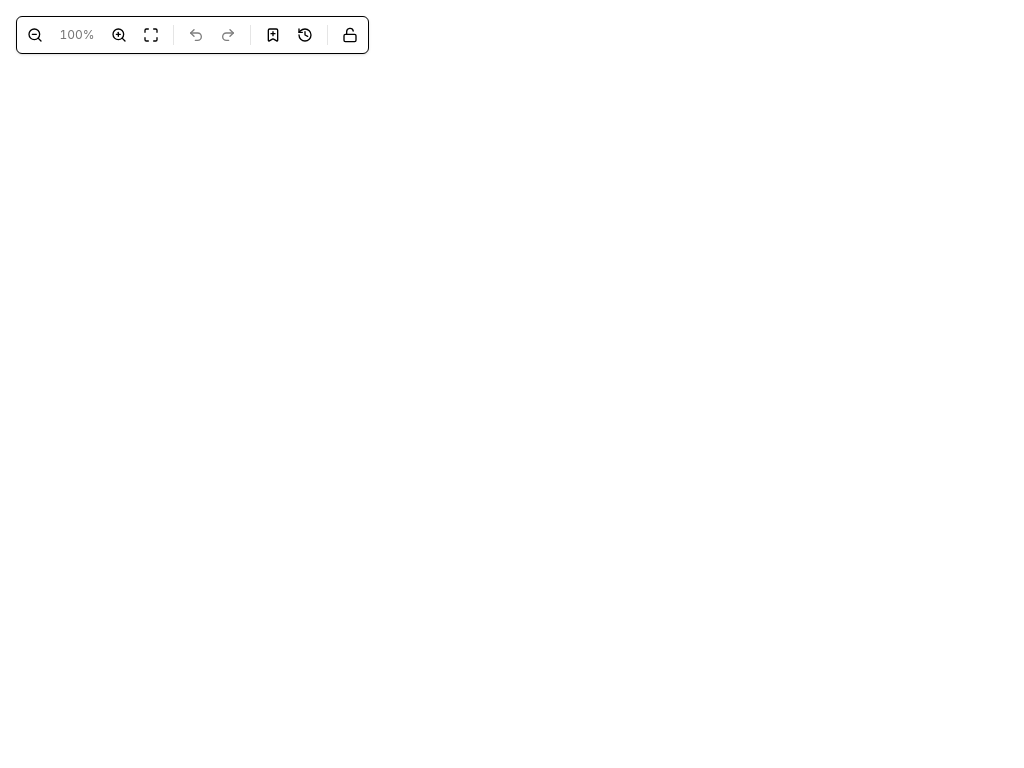
it: CanvasToolbar › save-version button opens the SaveVersionDialog
The image size is (1024, 768).
Click the button named "保存版本" at (273, 35), box [259,21,287,49]
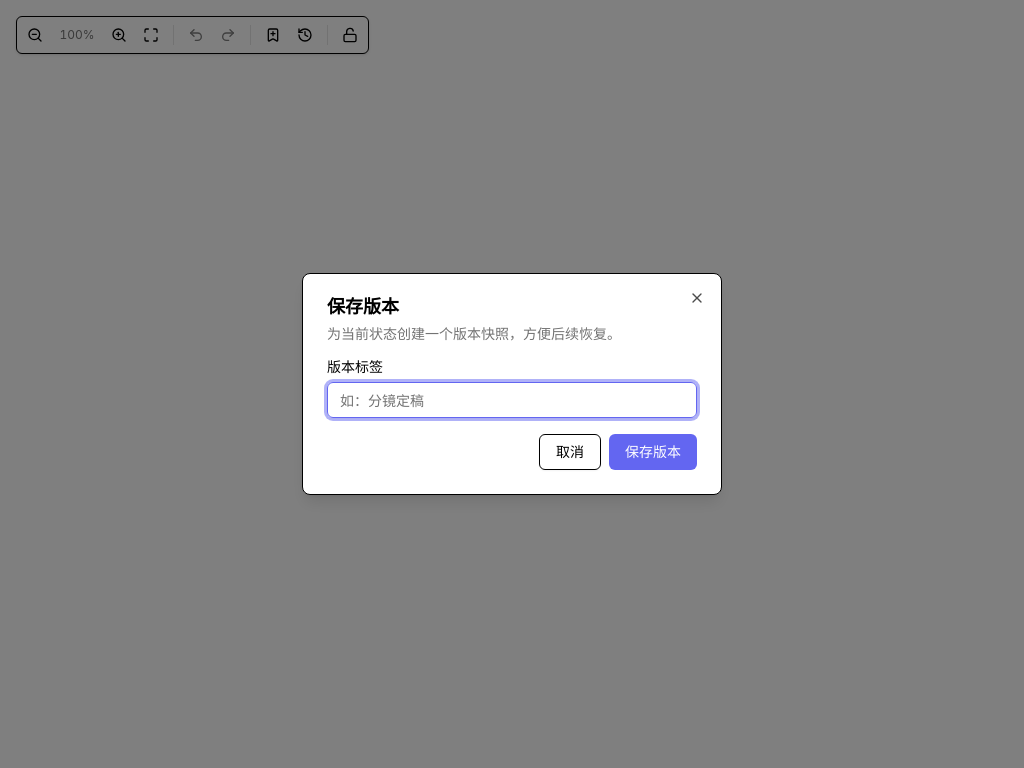
Now the heading "保存版本" is shown, box [327,296,399,317]
